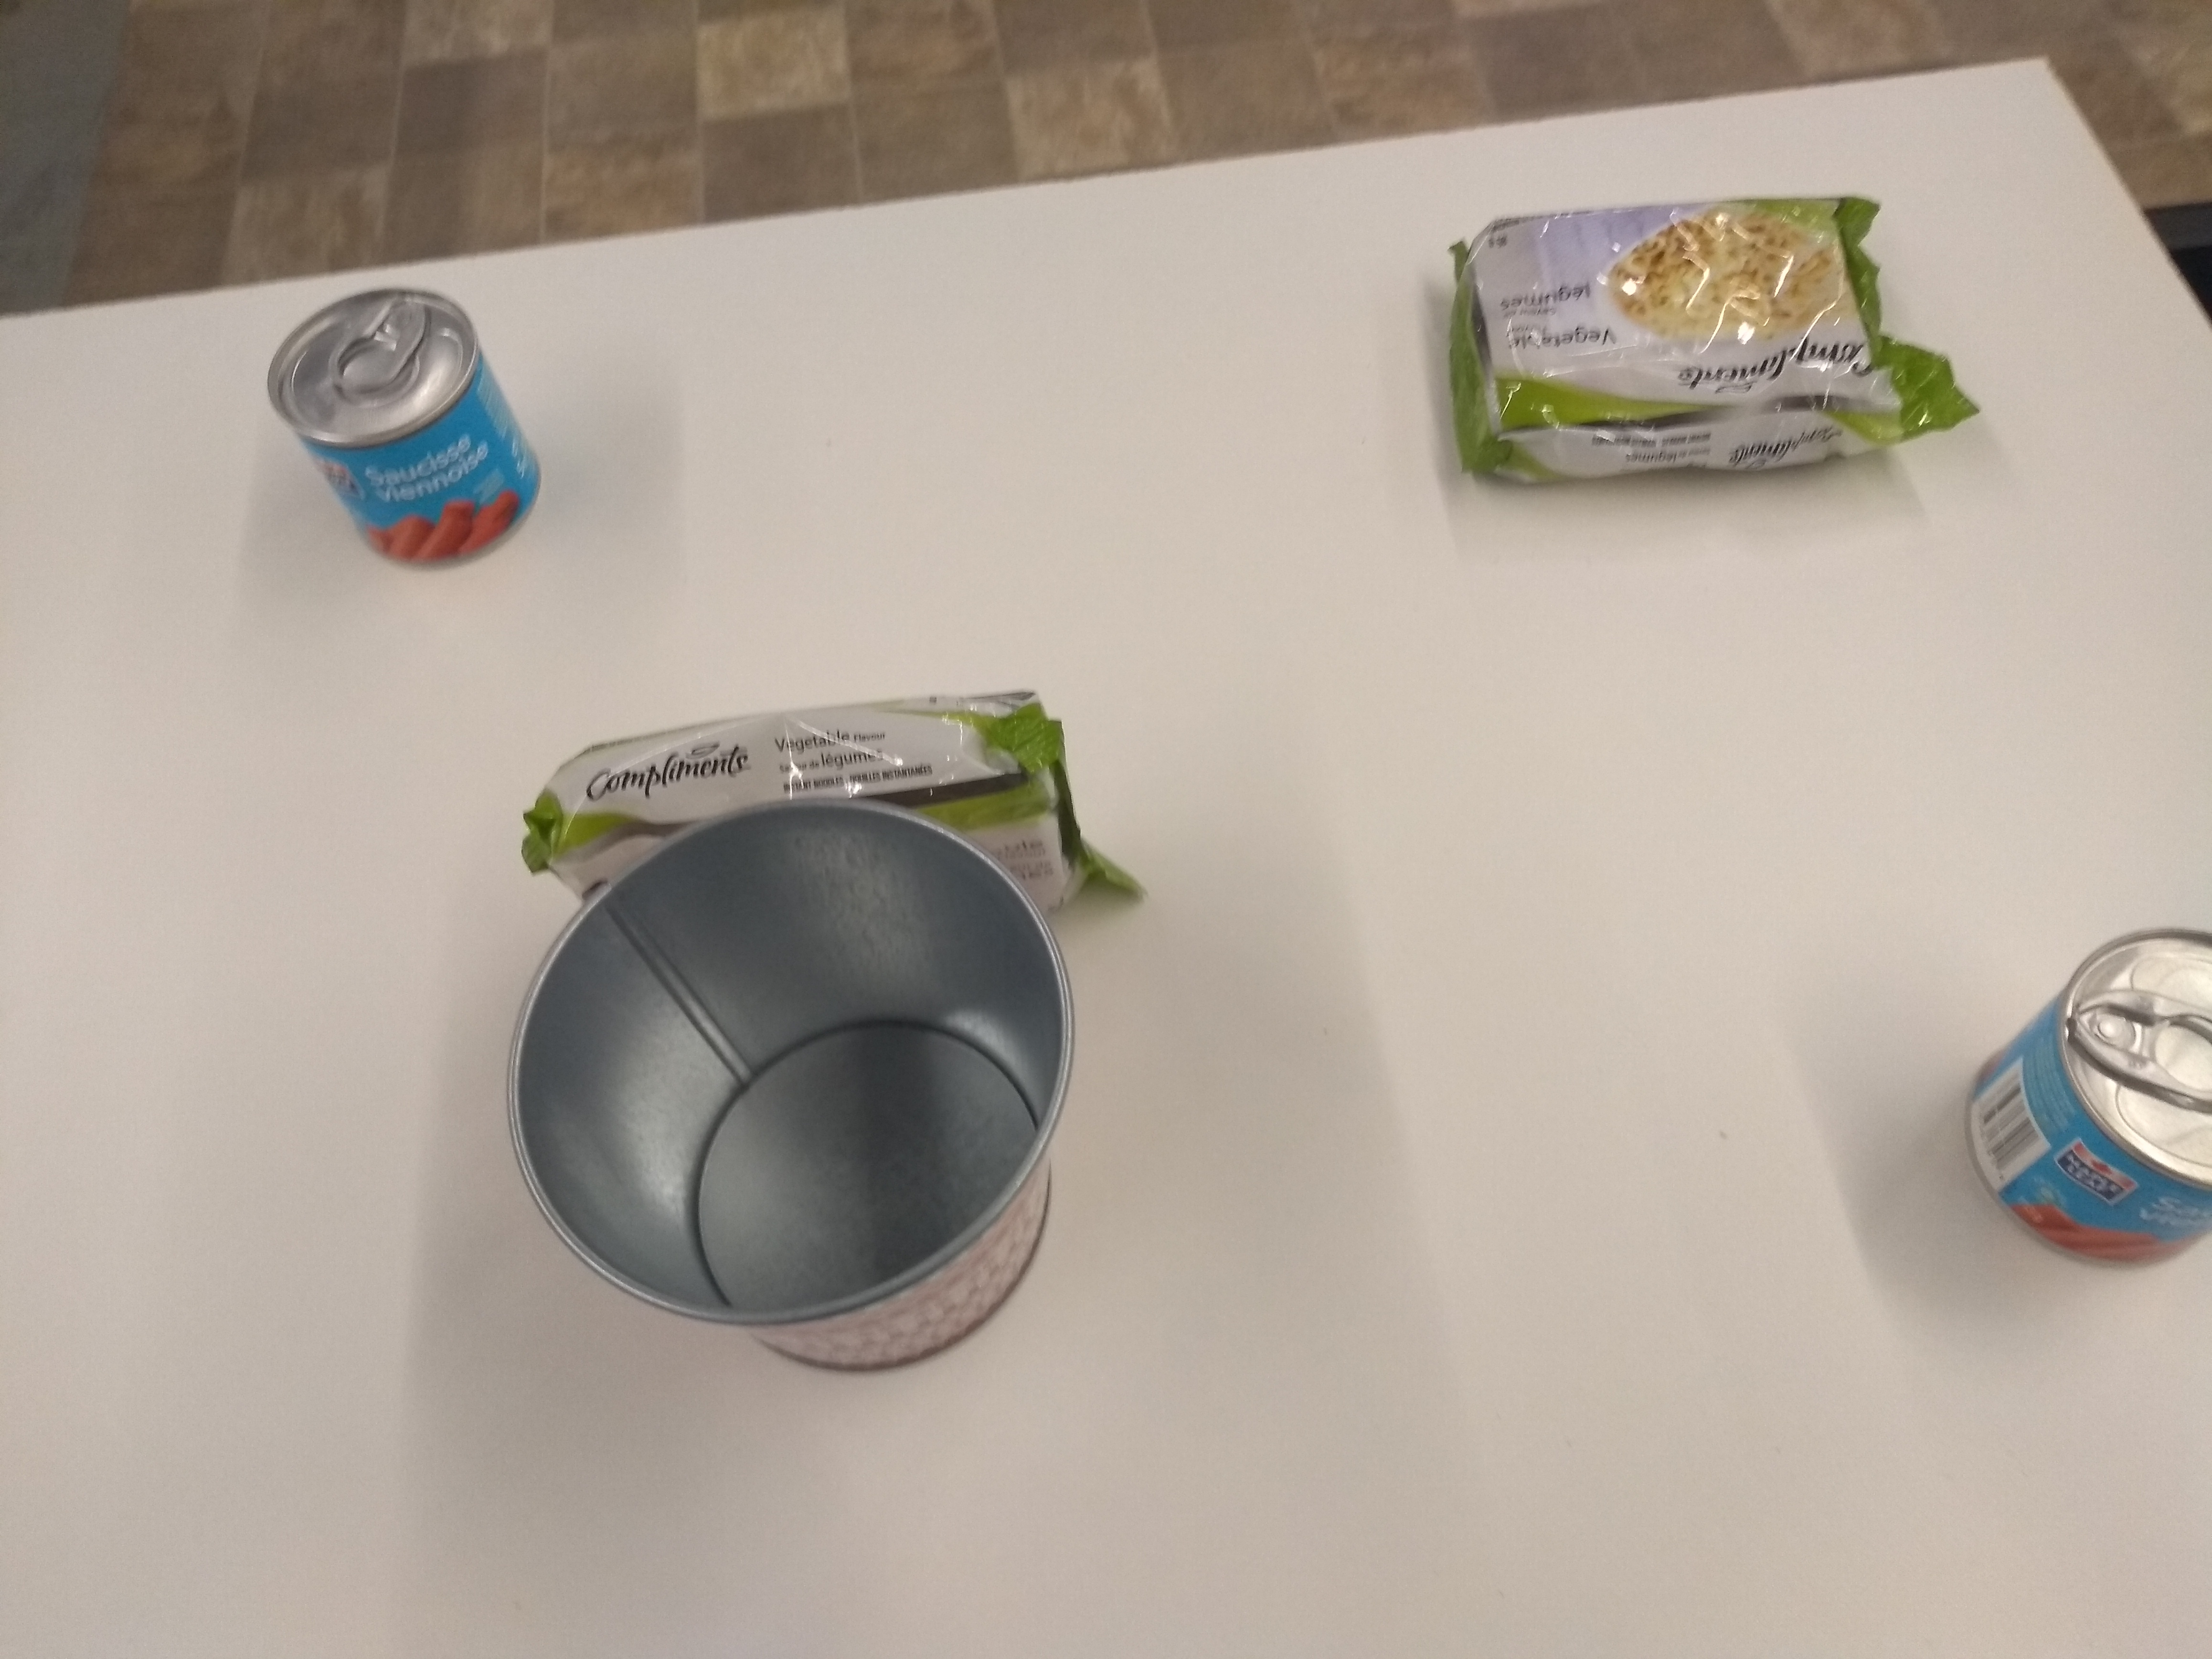noodles: (1440, 181, 1991, 497), (510, 680, 1069, 856)
sausages: (263, 281, 556, 580)
